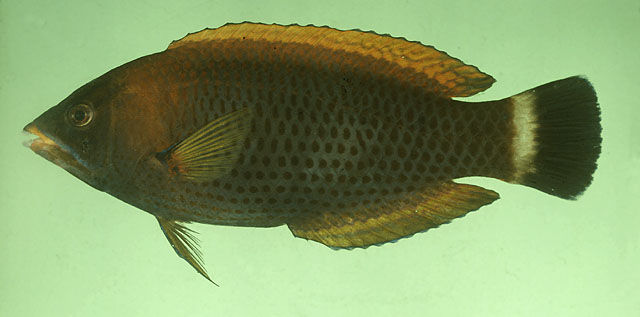fish: (21, 19, 604, 287)
